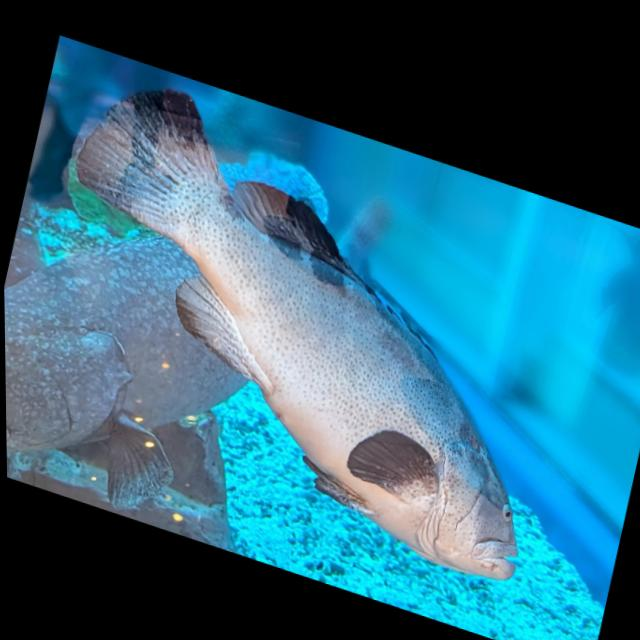Groupers: (12, 54, 595, 597)
